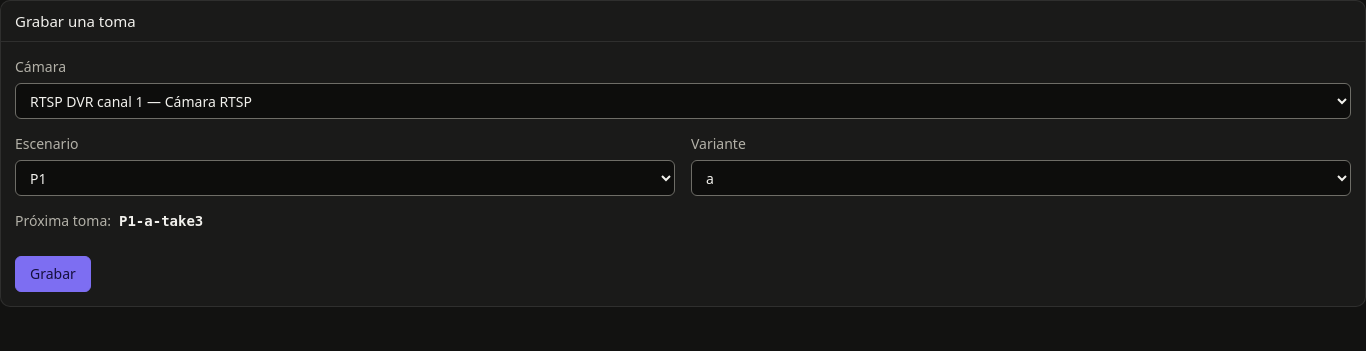
Test: RecordPanel › si el backend informa error, deja de contar y muestra el motivo
The image size is (1366, 351).
Expected: the text "P1-a-take3" is shown, x1=119 y1=211 x2=203 y2=232
Click the button "Grabar".
click(53, 274)  # box x1=15 y1=256 x2=91 y2=292
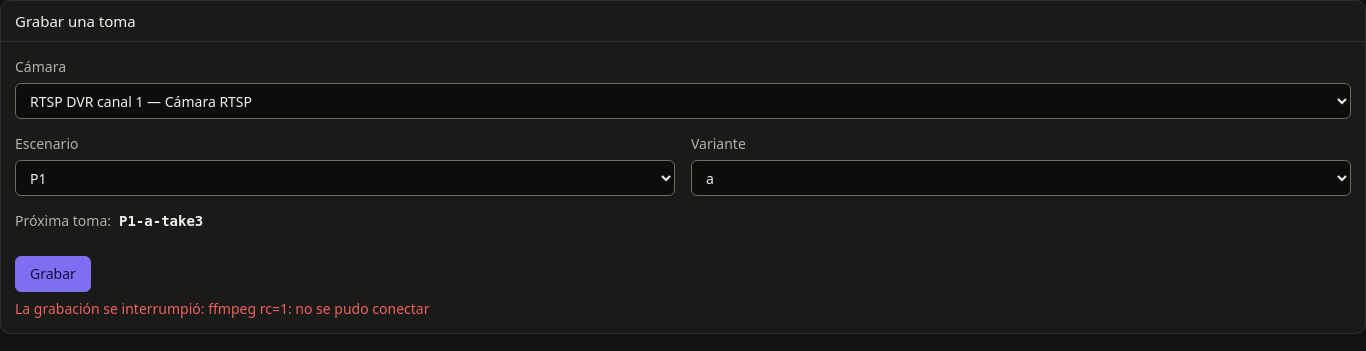
Now the text "no se pudo conectar" is shown, box x1=208 y1=299 x2=430 y2=318
